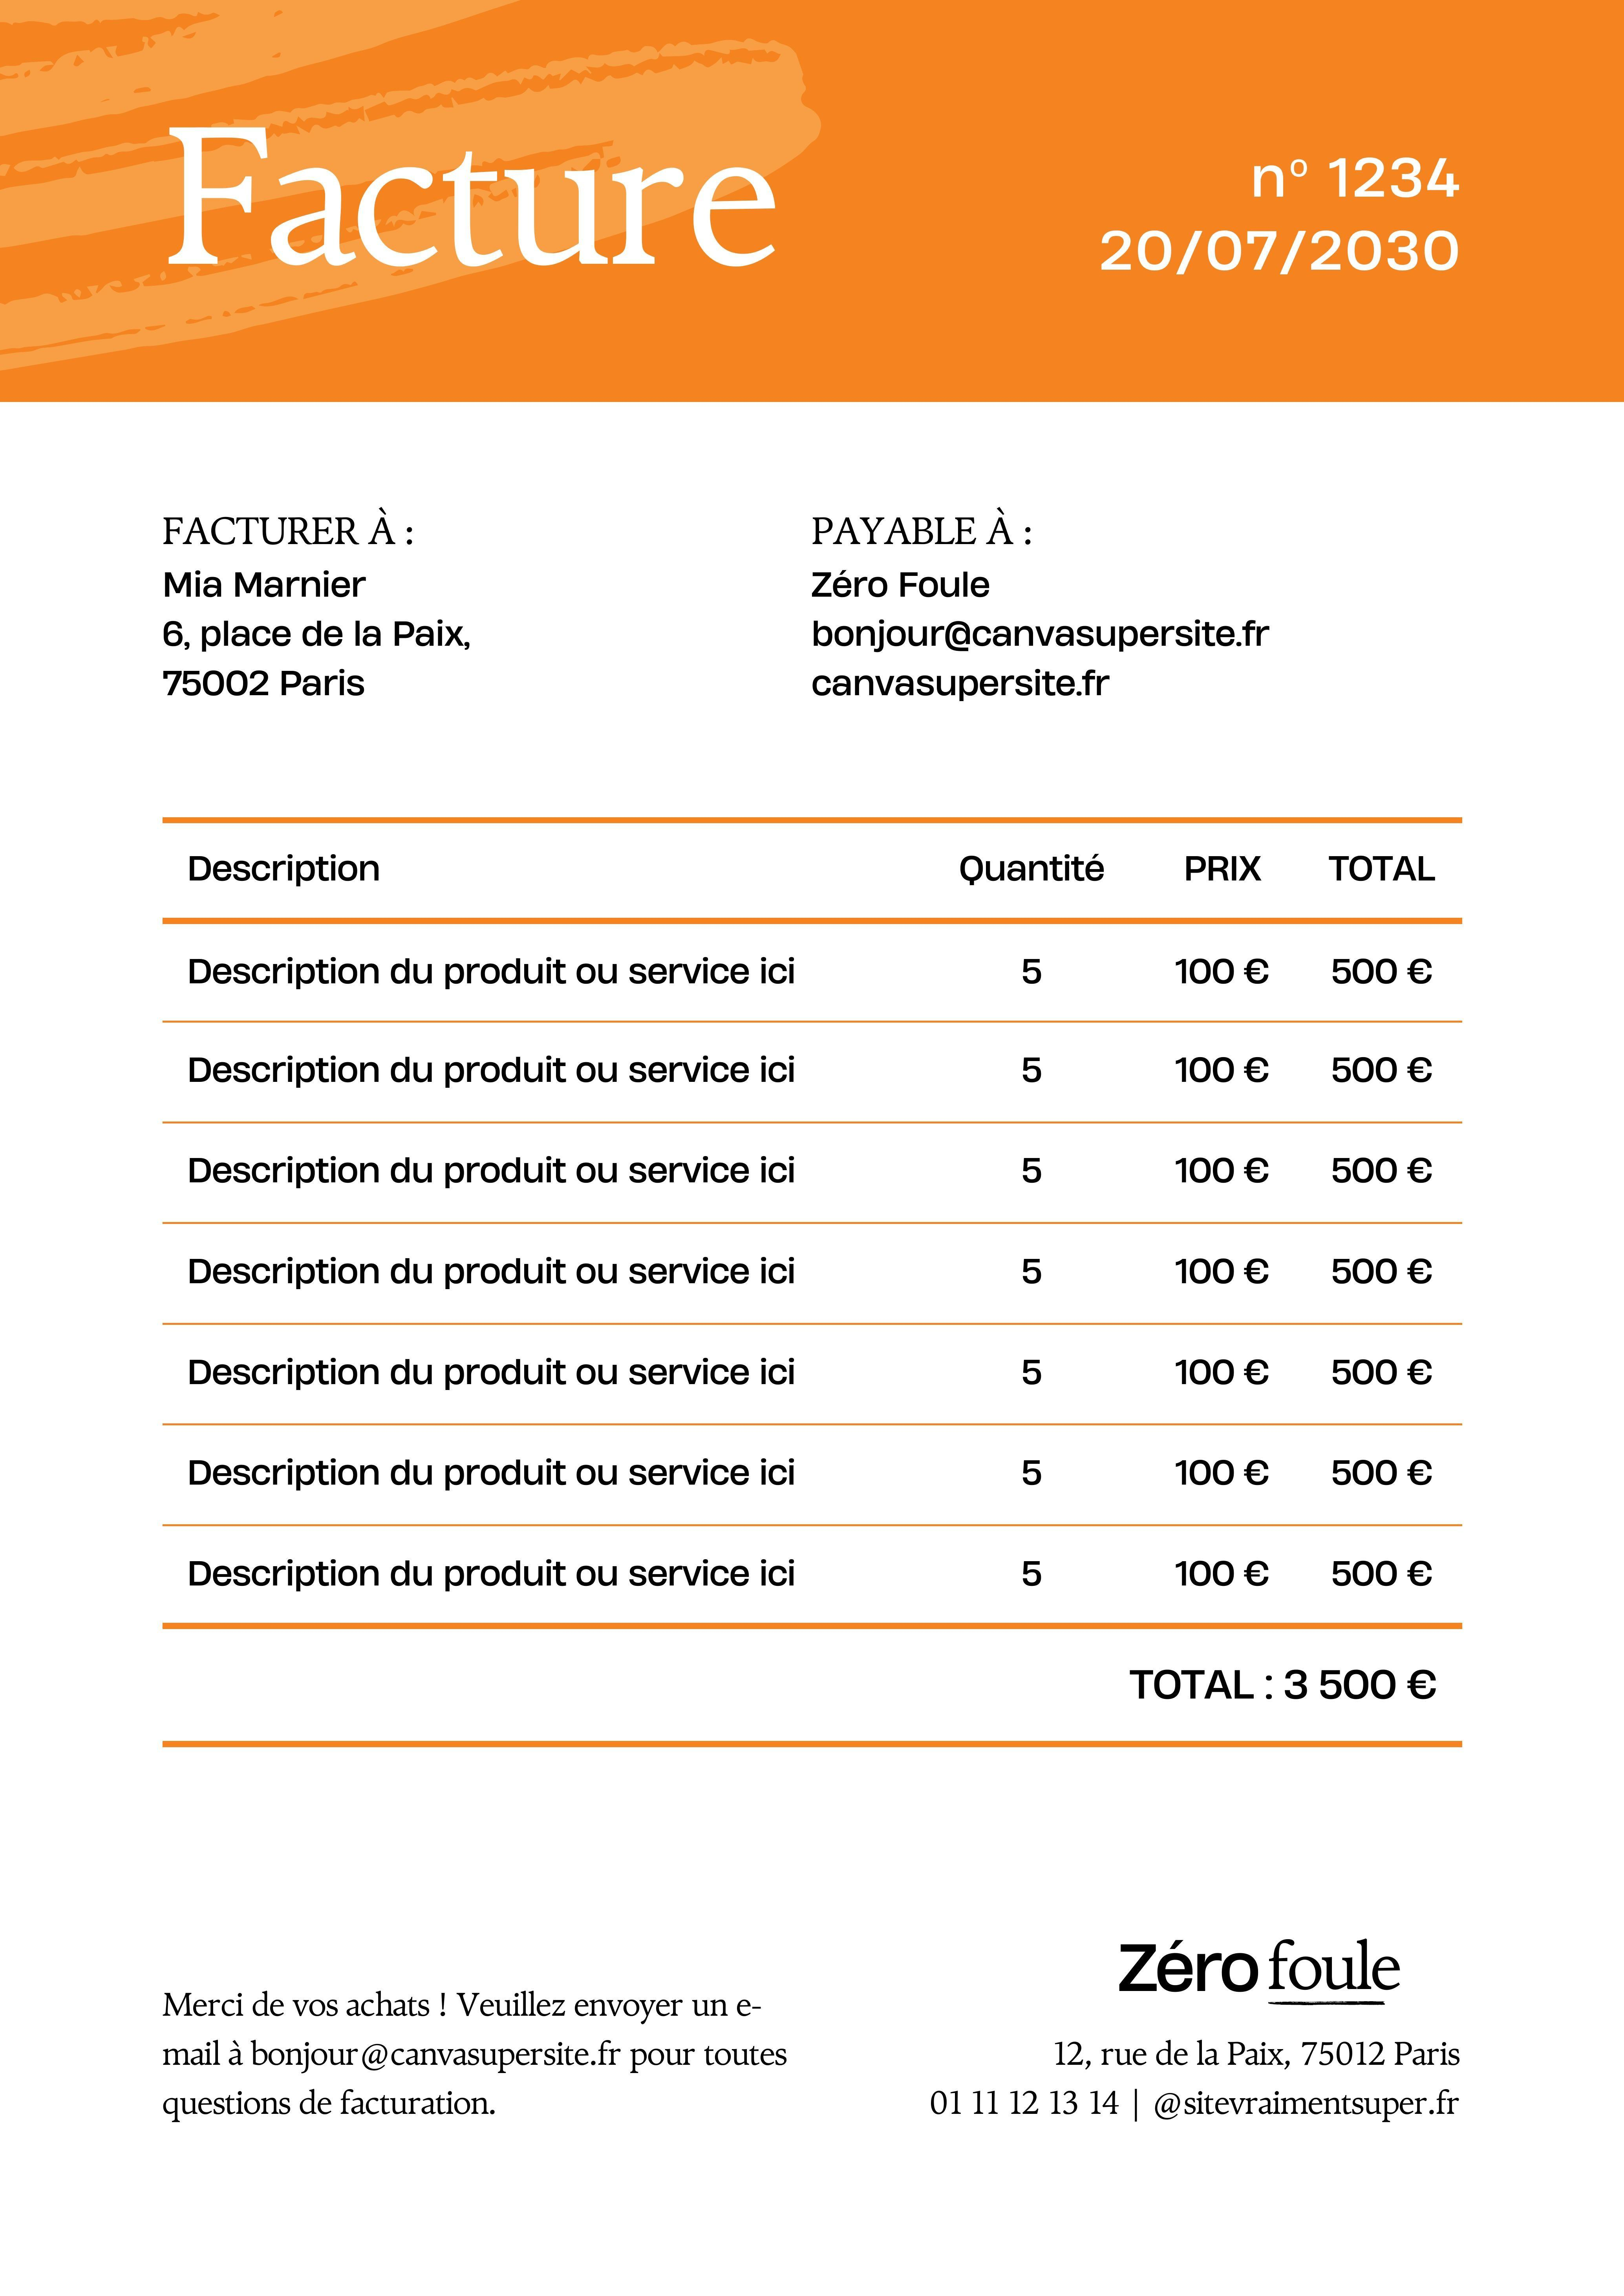ROI: (165, 817, 1464, 1618), (805, 508, 1297, 726), (160, 1980, 796, 2136), (1028, 105, 1483, 295), (146, 502, 490, 722), (1114, 1644, 1457, 1716)
